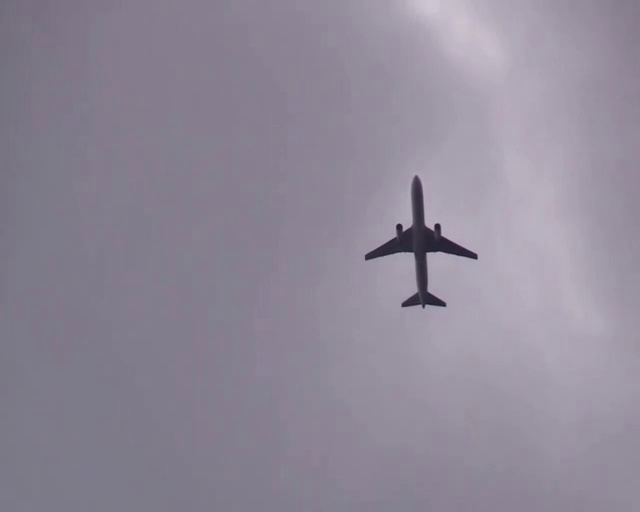AIRPLANE: (366, 172, 477, 309)
